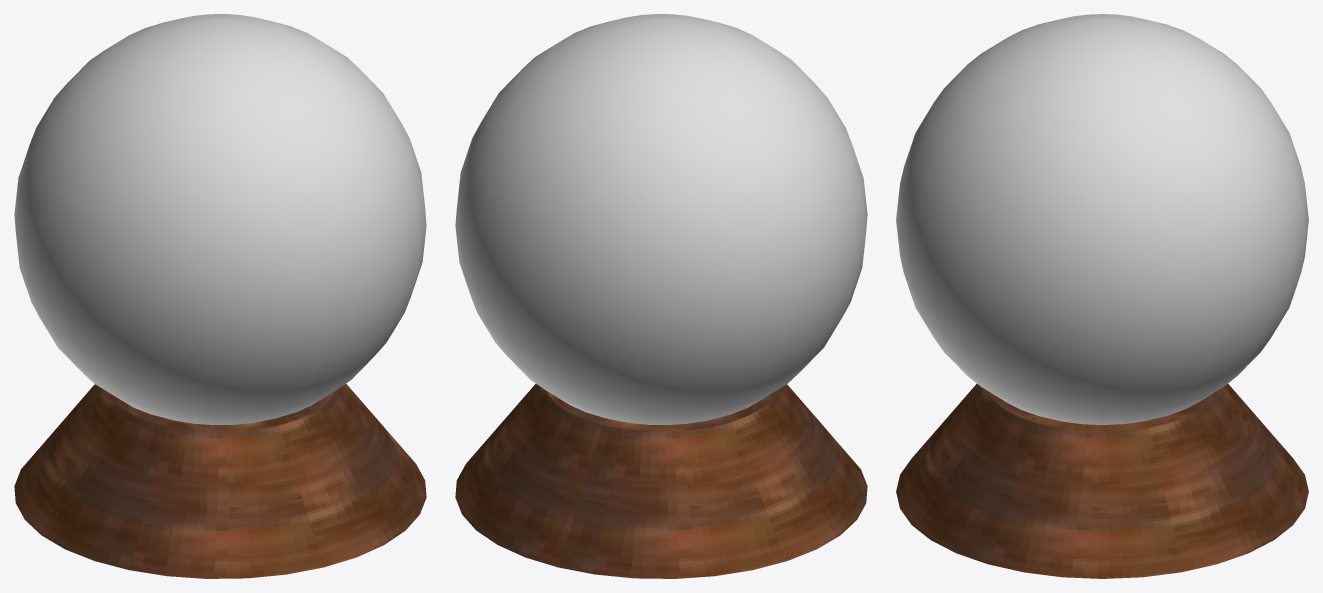
File: crystal_ball.glb
3 views of the same model, side by side, from view 1: azimuth 30°, elevation 25°; view 2: azimuth 150°, elevation 25°; view 3: azimuth 270°, elevation 25° (orthographic).
Parts seen in each view (by area): view 1: CrystalBall; view 2: CrystalBall; view 3: CrystalBall.
Part boxes in pixels (box(x1,y1,x2,y2)): CrystalBall: box(14, 14, 426, 578); CrystalBall: box(455, 14, 867, 578); CrystalBall: box(896, 14, 1308, 578).
Bounding box in the file's own units: 2 × 2.45 × 2.
Materials: 2 (1 with a texture image).
